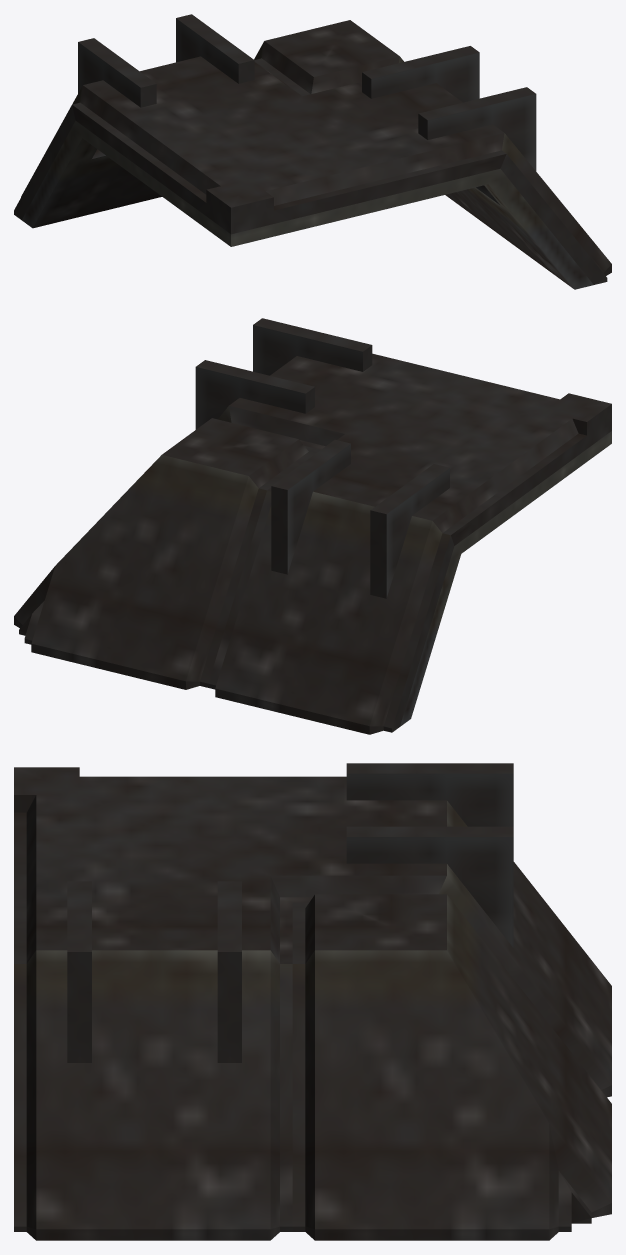
File: Ceiling_combined_corner_in.FBX
3 renders of one model, top to bottom at view 1: azimuth 30°, elevation 25°; view 2: azimuth 150°, elevation 25°; view 3: azimuth 270°, elevation 25°, orthographic. The views are drawn at different scales.
Visible parts, largest first — view 1: Ceiling_combined_corner_in; view 2: Ceiling_combined_corner_in; view 3: Ceiling_combined_corner_in.
Boxes of the visible parts, x1,y1,x2,y2 form: Ceiling_combined_corner_in: [14, 14, 611, 289]; Ceiling_combined_corner_in: [14, 318, 611, 734]; Ceiling_combined_corner_in: [14, 763, 611, 1240].
Bounding box in the file's own units: 322 × 147 × 322.
